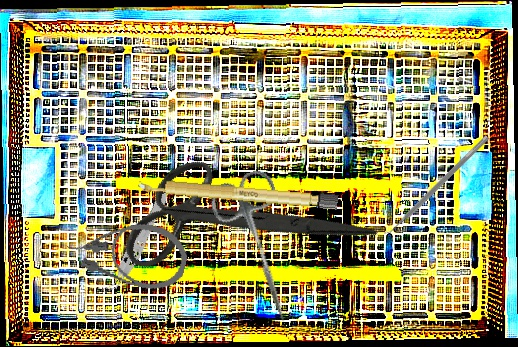Cannula: (62, 206, 193, 297)
Iris Scissors: (101, 97, 379, 346), (205, 166, 317, 332)
Scalpel Handle: (137, 176, 339, 210)
Spatula Surgical: (381, 130, 490, 240)
Tissue Forceps: (101, 188, 173, 300)
